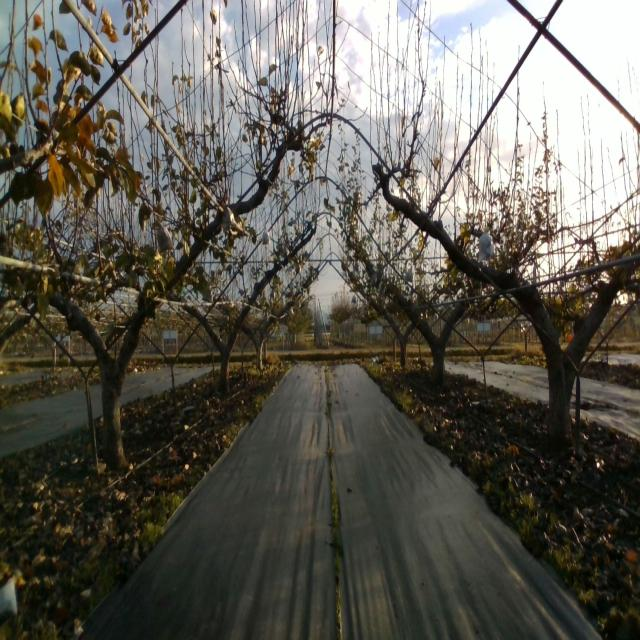pearbags: (478, 232, 495, 262), (222, 205, 237, 232)
